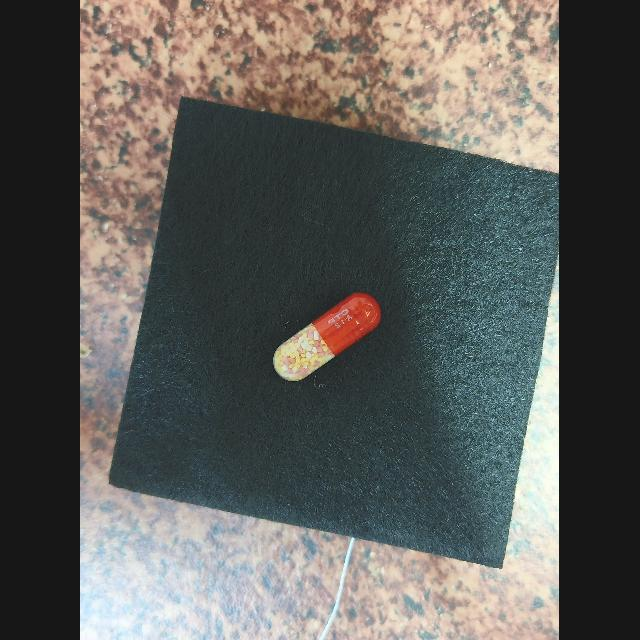Intact Capsule: (273, 293, 382, 381)
